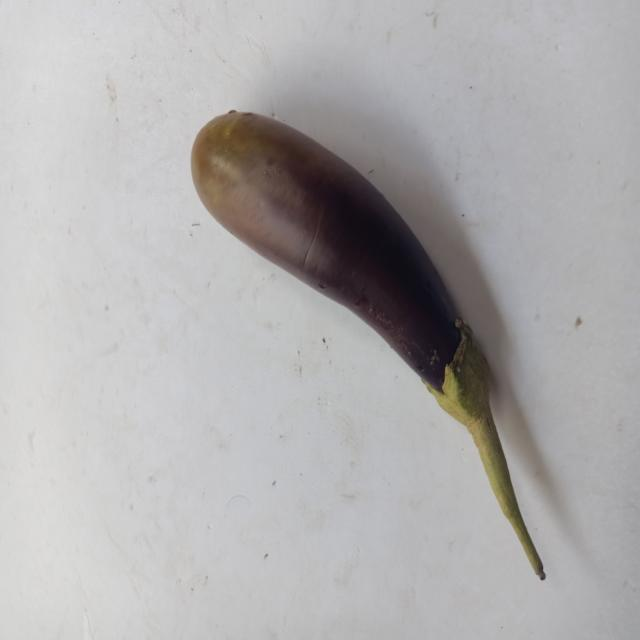Brinjal: (162, 76, 564, 634)
